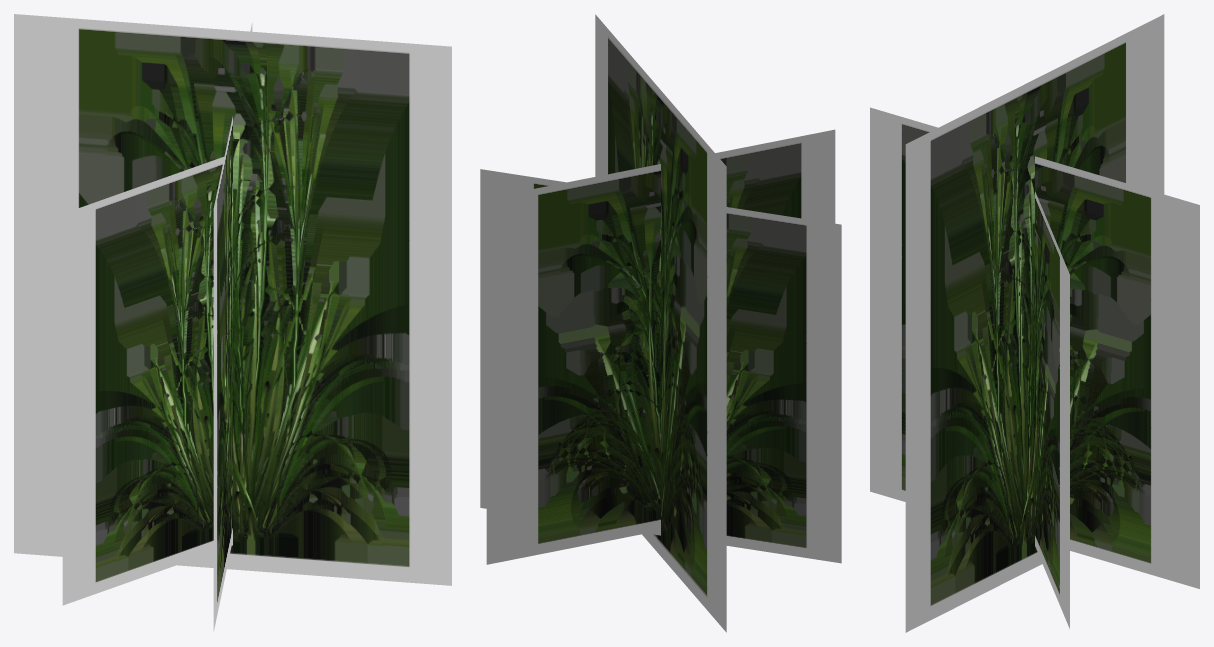
File: grass_tall.obj
3 renders of one model, left to right at view 1: azimuth 30°, elevation 25°; view 2: azimuth 150°, elevation 25°; view 3: azimuth 270°, elevation 25°, orthographic. The views are drawn at different scales.
Parts seen in each view (by area): view 1: obj3, obj1, obj2; view 2: obj2, obj1, obj3; view 3: obj3, obj2, obj1.
Part boxes in pixels (box(x1,y1,x2,y2)): obj3: box(14, 14, 451, 585); obj1: box(62, 157, 232, 605); obj2: box(213, 23, 252, 631); obj2: box(486, 129, 835, 564); obj1: box(480, 169, 841, 563); obj3: box(595, 14, 726, 632); obj3: box(905, 14, 1164, 632); obj2: box(870, 107, 1199, 588); obj1: box(1035, 191, 1069, 628).
Bounding box in the file's own units: 89.64 × 122 × 74.57.
1 material, 1 textured.
